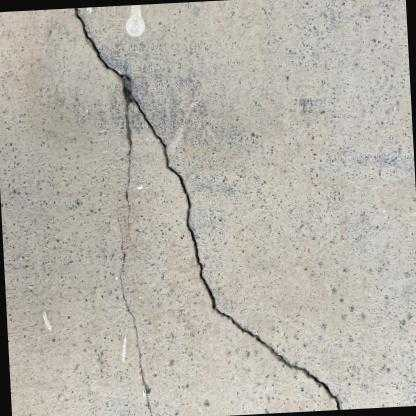crack: (72, 6, 341, 410), (115, 218, 153, 416)
